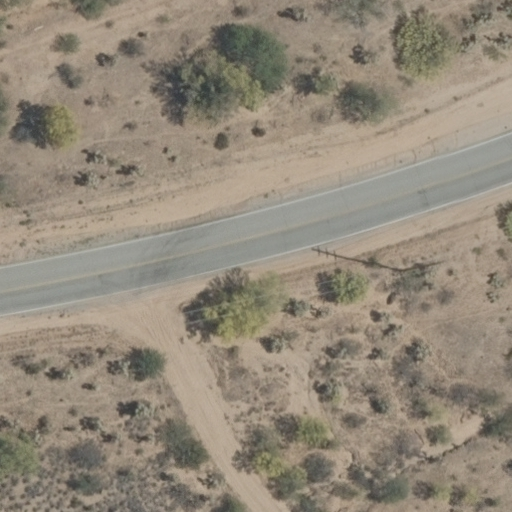DT: (387, 249, 449, 281)
